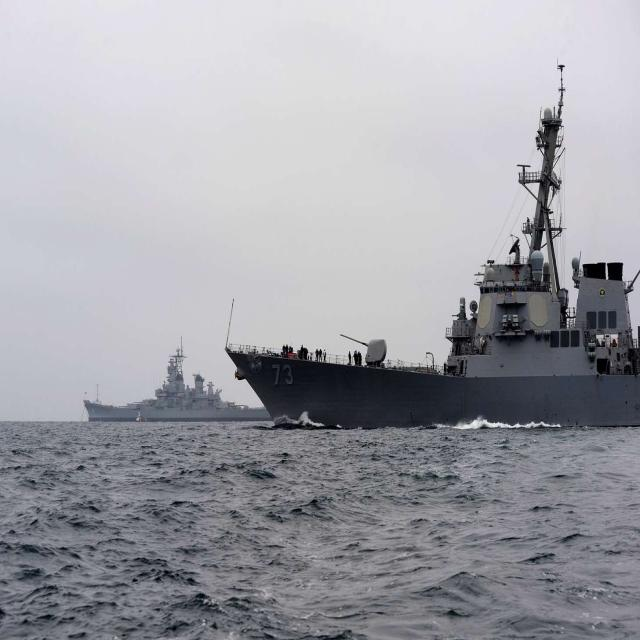navalvessels: (205, 62, 640, 440), (73, 277, 249, 481)
